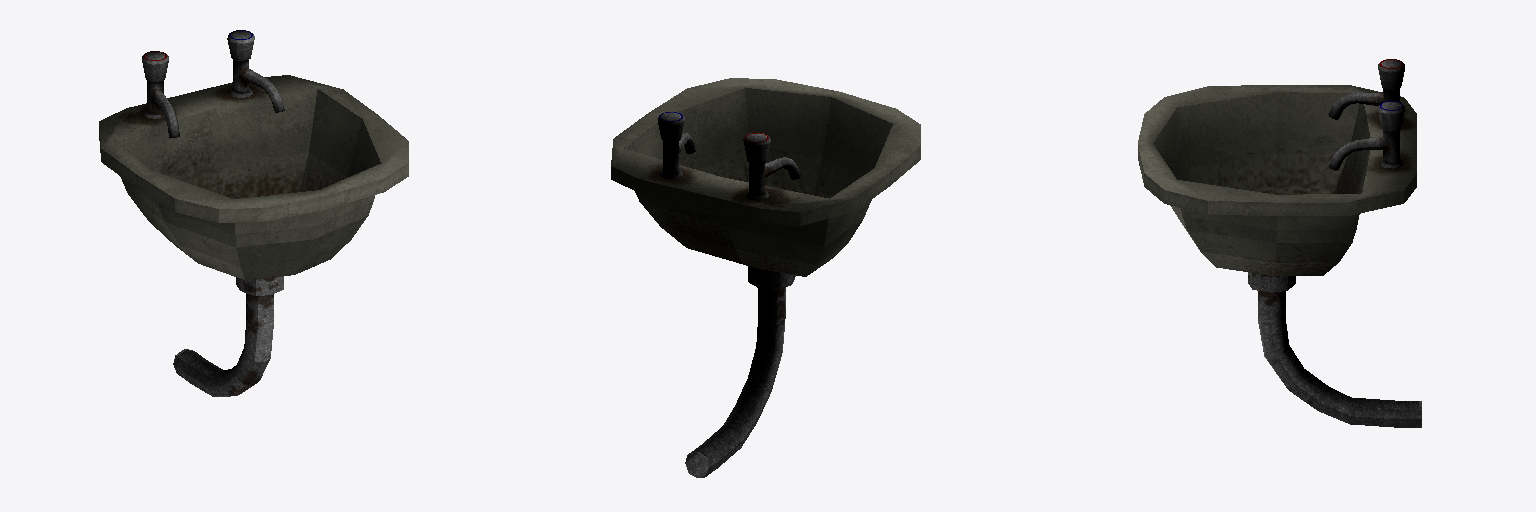
3 views of the same model, side by side, from view 1: azimuth 30°, elevation 25°; view 2: azimuth 150°, elevation 25°; view 3: azimuth 270°, elevation 25° (orthographic).
Parts seen in each view (by area): view 1: Cube; view 2: Cube; view 3: Cube.
Part boxes in pixels (bbox=[...]): Cube: bbox=[99, 30, 408, 396]; Cube: bbox=[611, 78, 920, 477]; Cube: bbox=[1138, 59, 1421, 427].
Size of the model in its own units: 0.6481 by 0.87 by 0.66.
Materials: 1 (1 with a texture image).